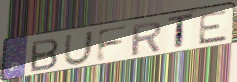B: (29, 37, 61, 74)
E: (197, 8, 230, 47)
F: (94, 24, 130, 64)
R: (130, 20, 164, 57)
T: (166, 12, 196, 52)
U: (62, 29, 96, 67)
